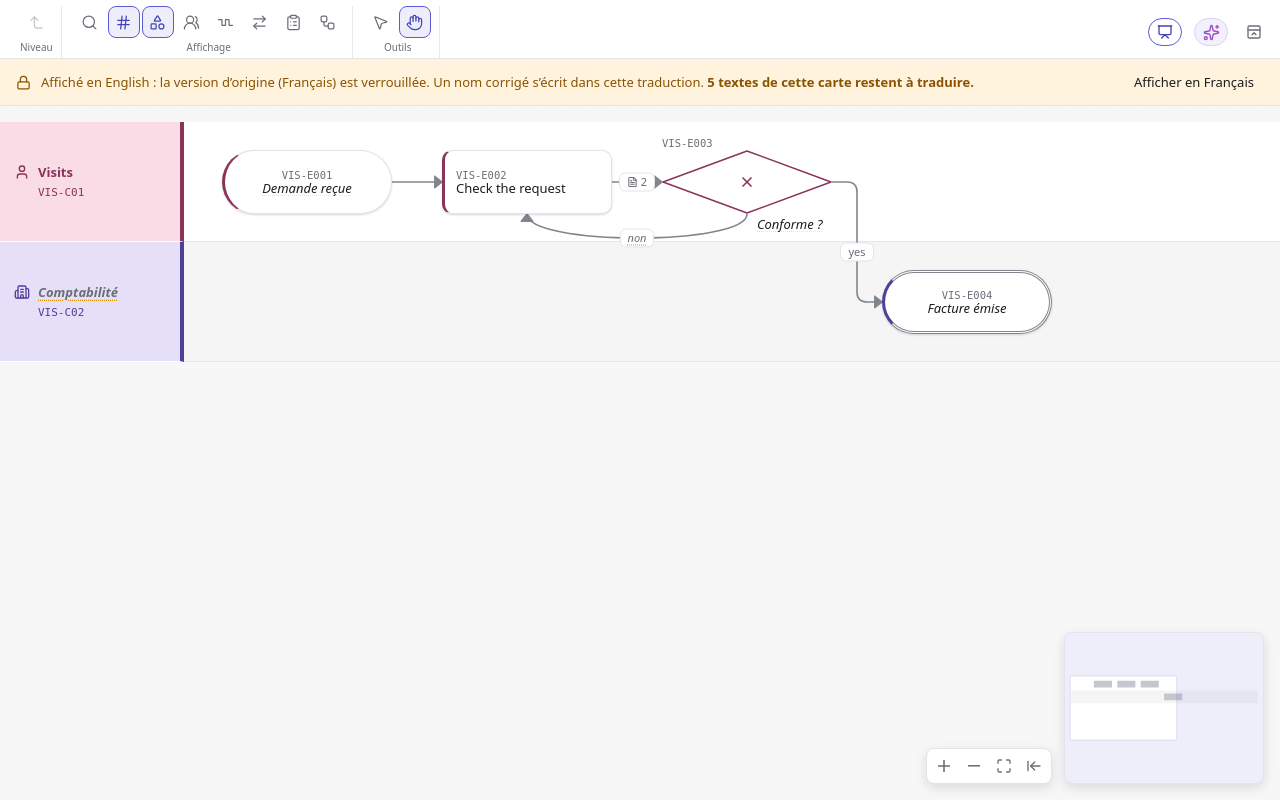
the results (ADR 110 point 5) › the results are grouped by map, this map first, the word marked, a text of the language of origin says its language
Press f in the element with test id "map-canvas"
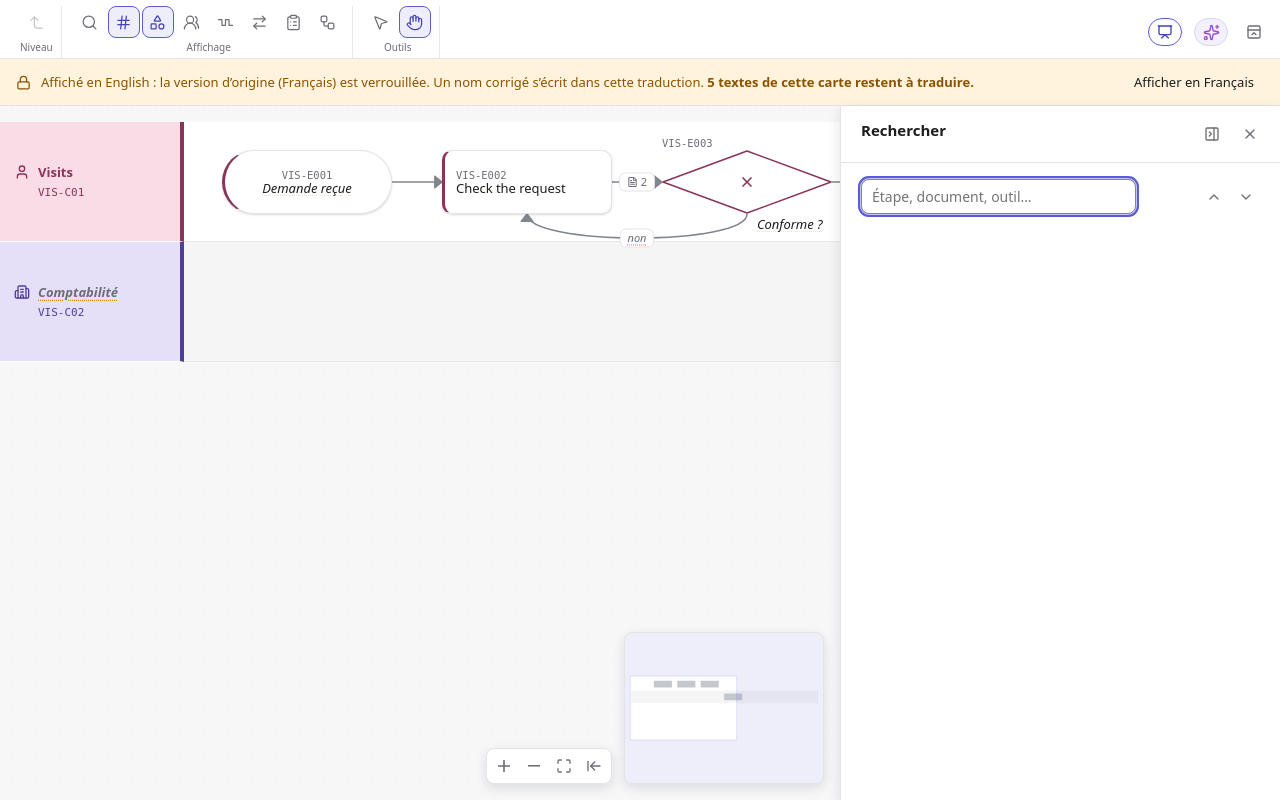
Type "demande" into the search field with test id "search-field" at (998, 196), box x1=861 y1=179 x2=1136 y2=214
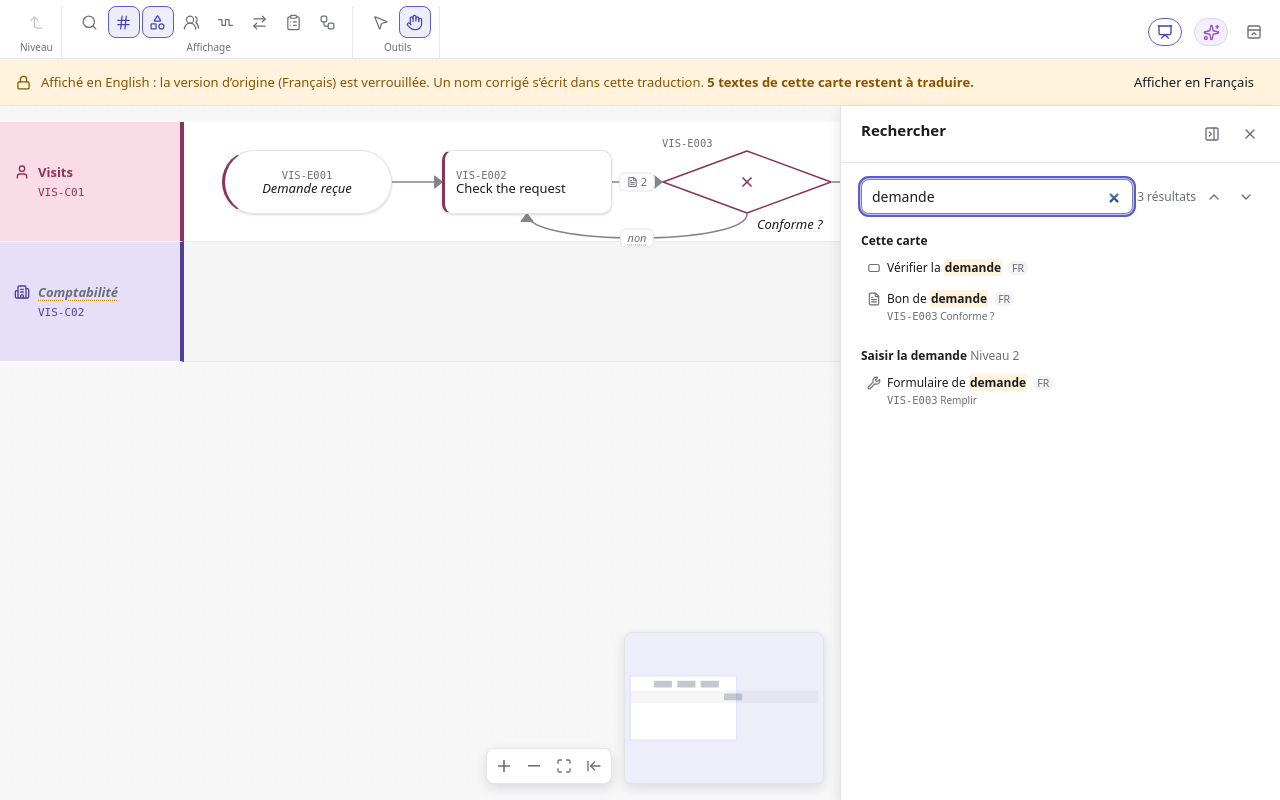
Result: the heading "Saisir la demande Niveau 2" is shown at x1=861 y1=347 x2=1019 y2=364
Result: the picture named "Étape" is shown at x1=867 y1=260 x2=881 y2=274
Result: the button with test id "^search-hit-" shows "VIS-E003 Conforme ?" at x1=861 y1=284 x2=1260 y2=329
